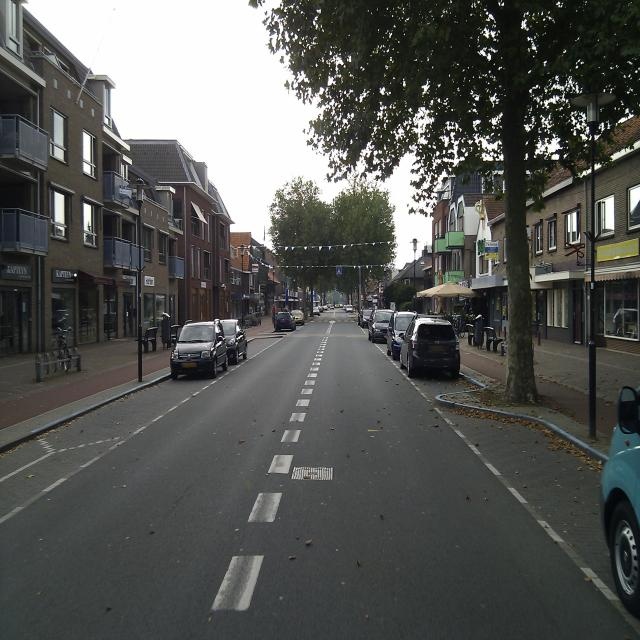Good: (291, 463, 334, 484)
